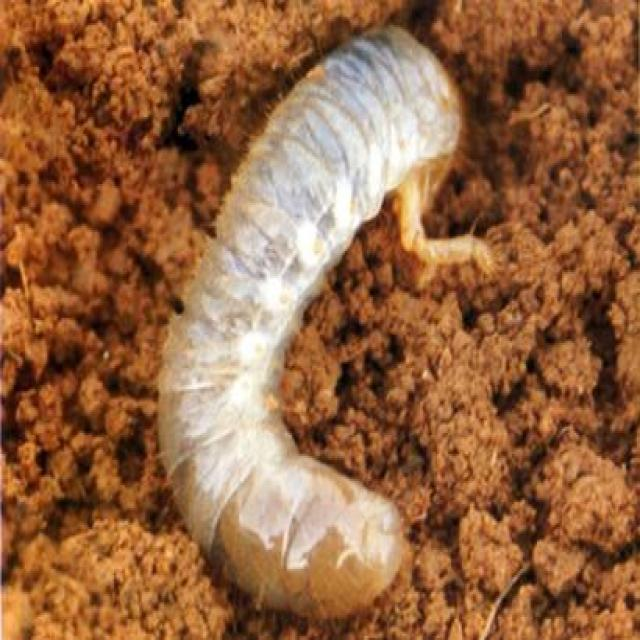Grub-Adult-: (133, 23, 494, 628)
